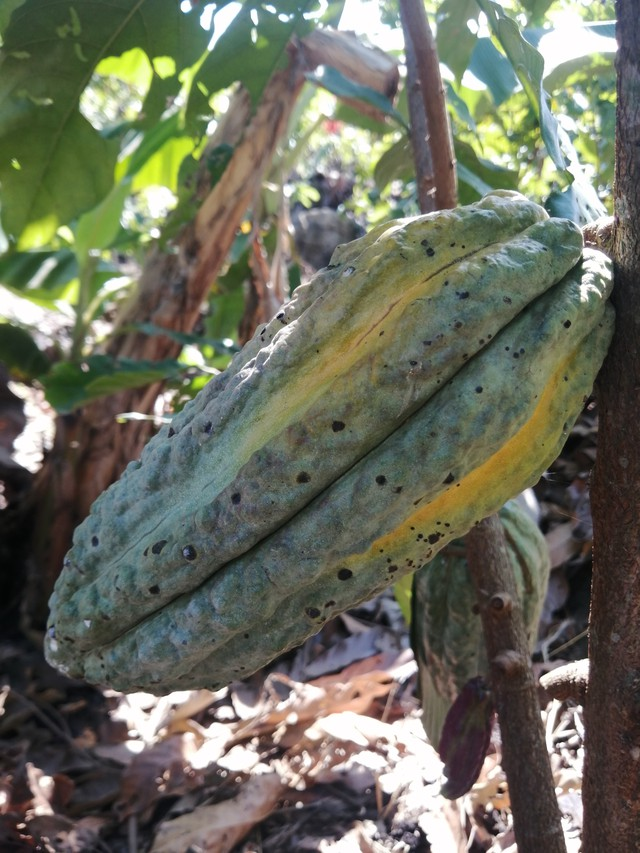moniliophthora perniciosa: (25, 178, 628, 699)
